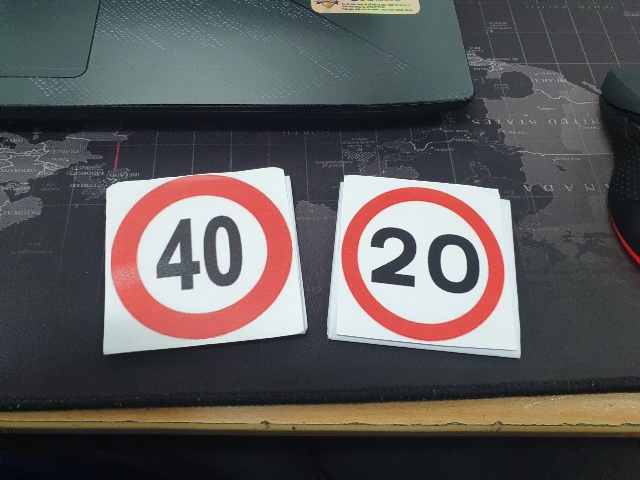Limit 20: (345, 187, 506, 345)
Limit 40: (113, 175, 294, 335)
